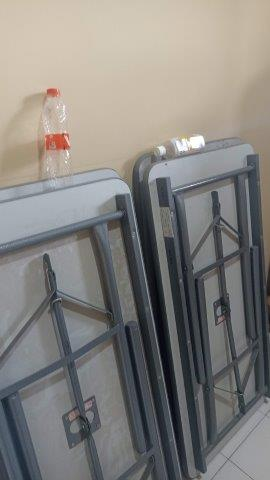botolplastik: (42, 88, 71, 184), (153, 132, 206, 159)
